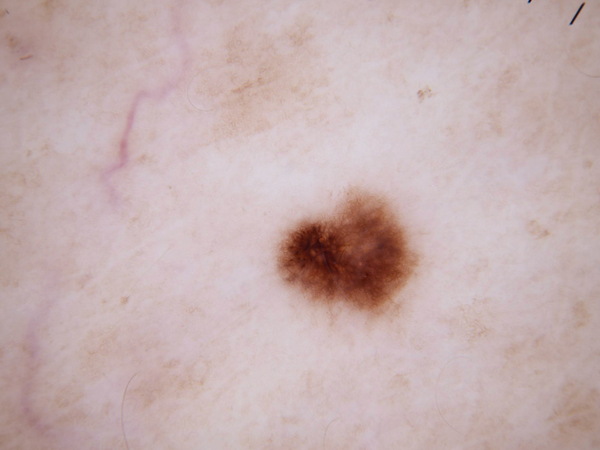Detected Lesion: (273, 187, 426, 319)
